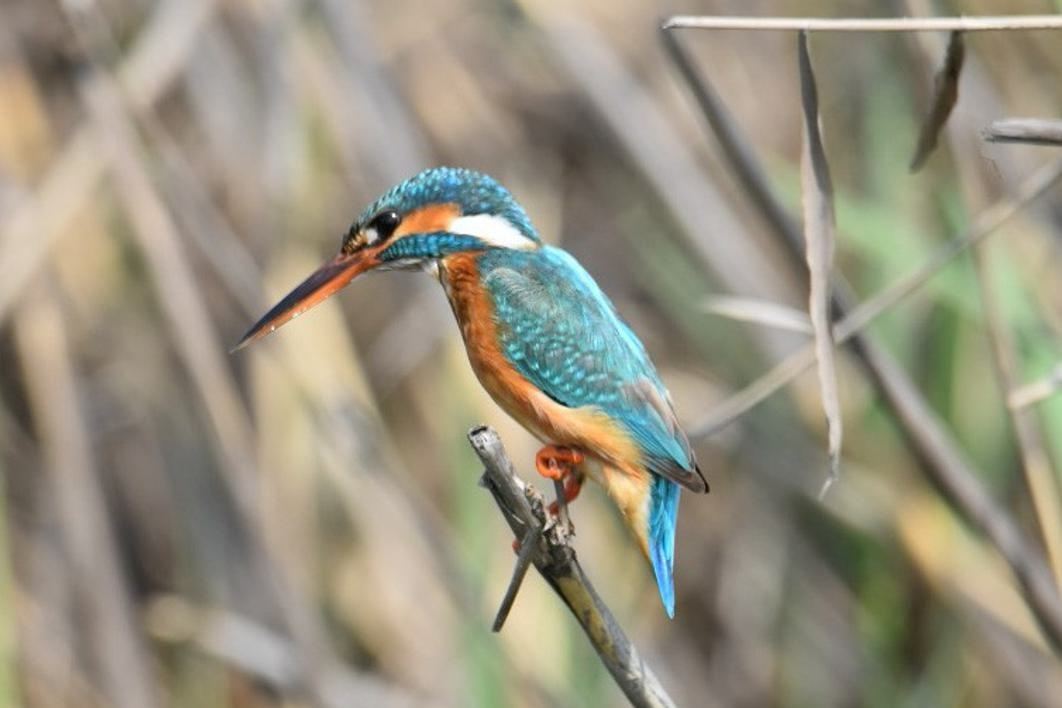kingfisher: (220, 144, 741, 637)
